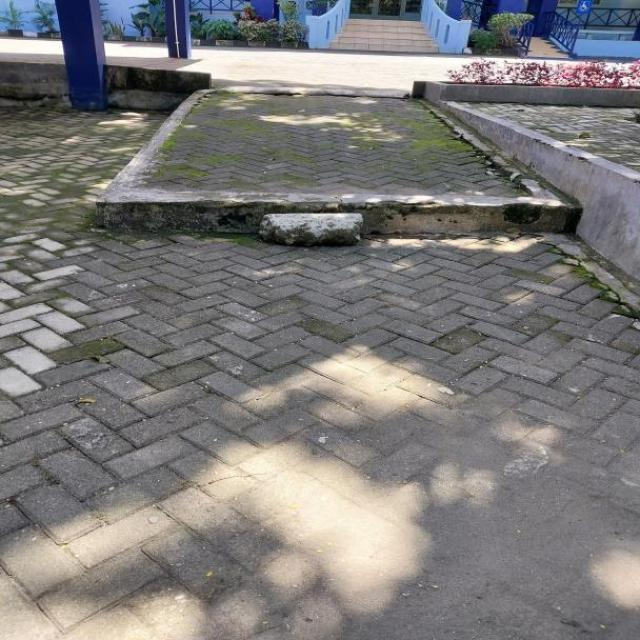stones ahead at: (252, 211, 370, 252)
